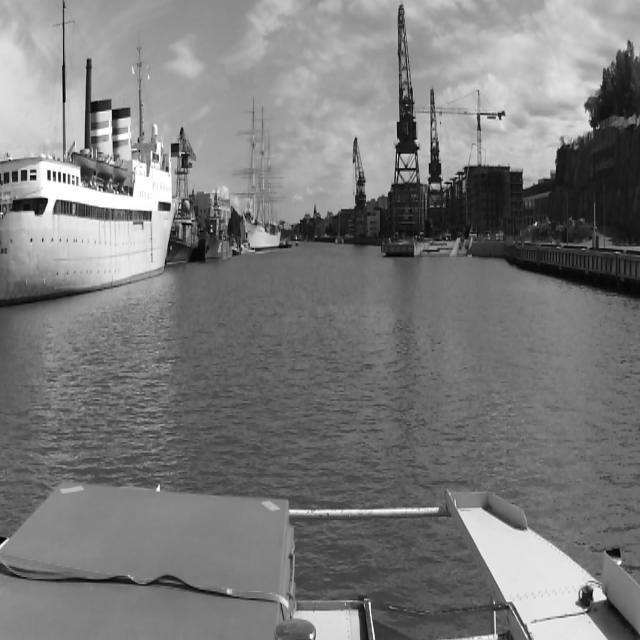ship: (0, 59, 178, 306), (243, 97, 279, 250), (200, 188, 232, 264), (175, 188, 198, 262), (335, 212, 345, 245), (241, 240, 253, 251), (280, 238, 292, 247)
